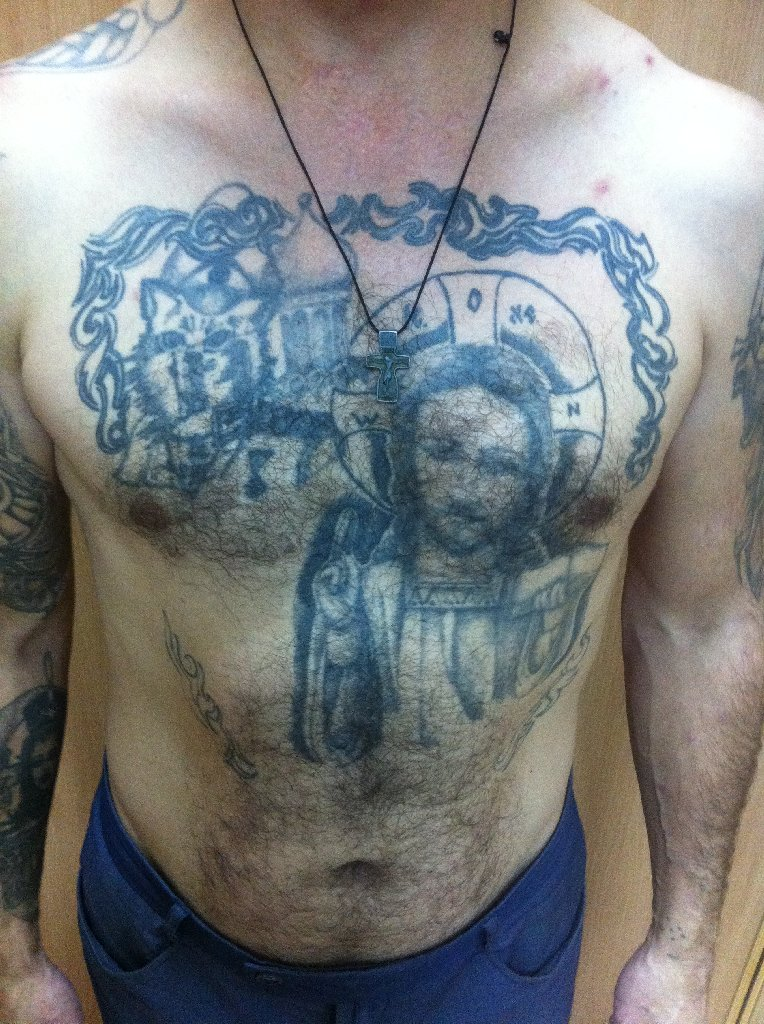tatu8_kot: (130, 260, 300, 488)
